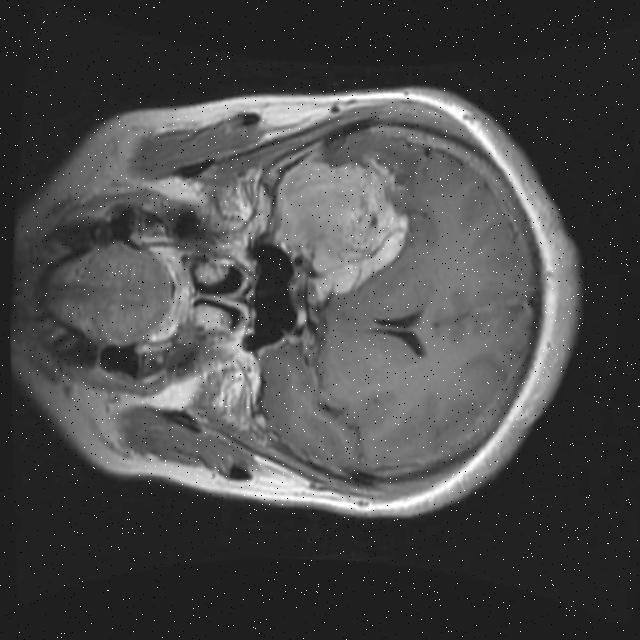Meningioma: (260, 144, 417, 311)
